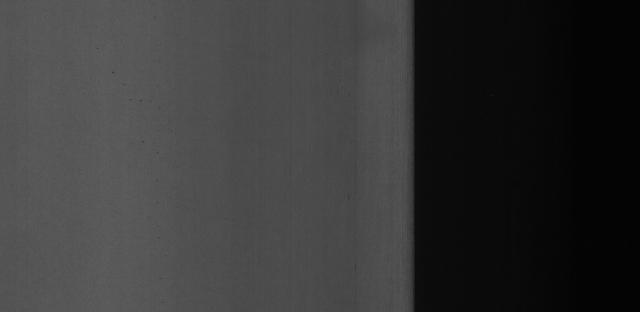inclusion: (128, 91, 153, 117), (107, 63, 135, 83)
